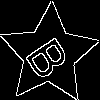B: (24, 29, 79, 83)
